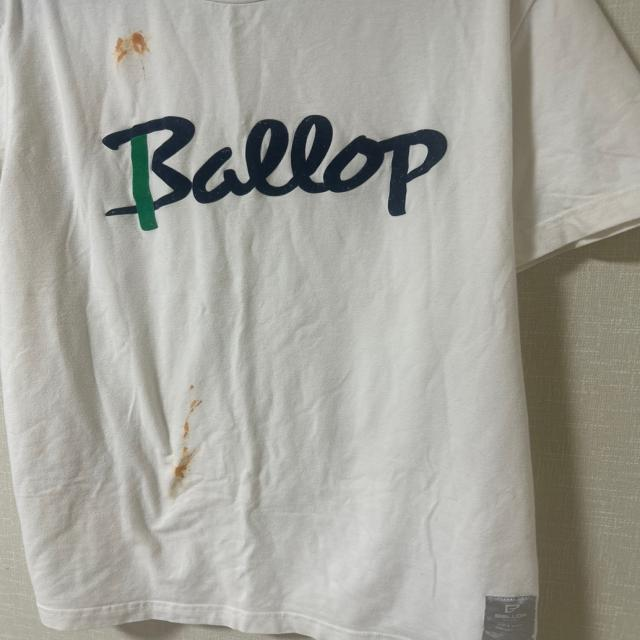stain: (178, 386, 206, 442), (114, 34, 157, 67), (171, 444, 198, 484)
